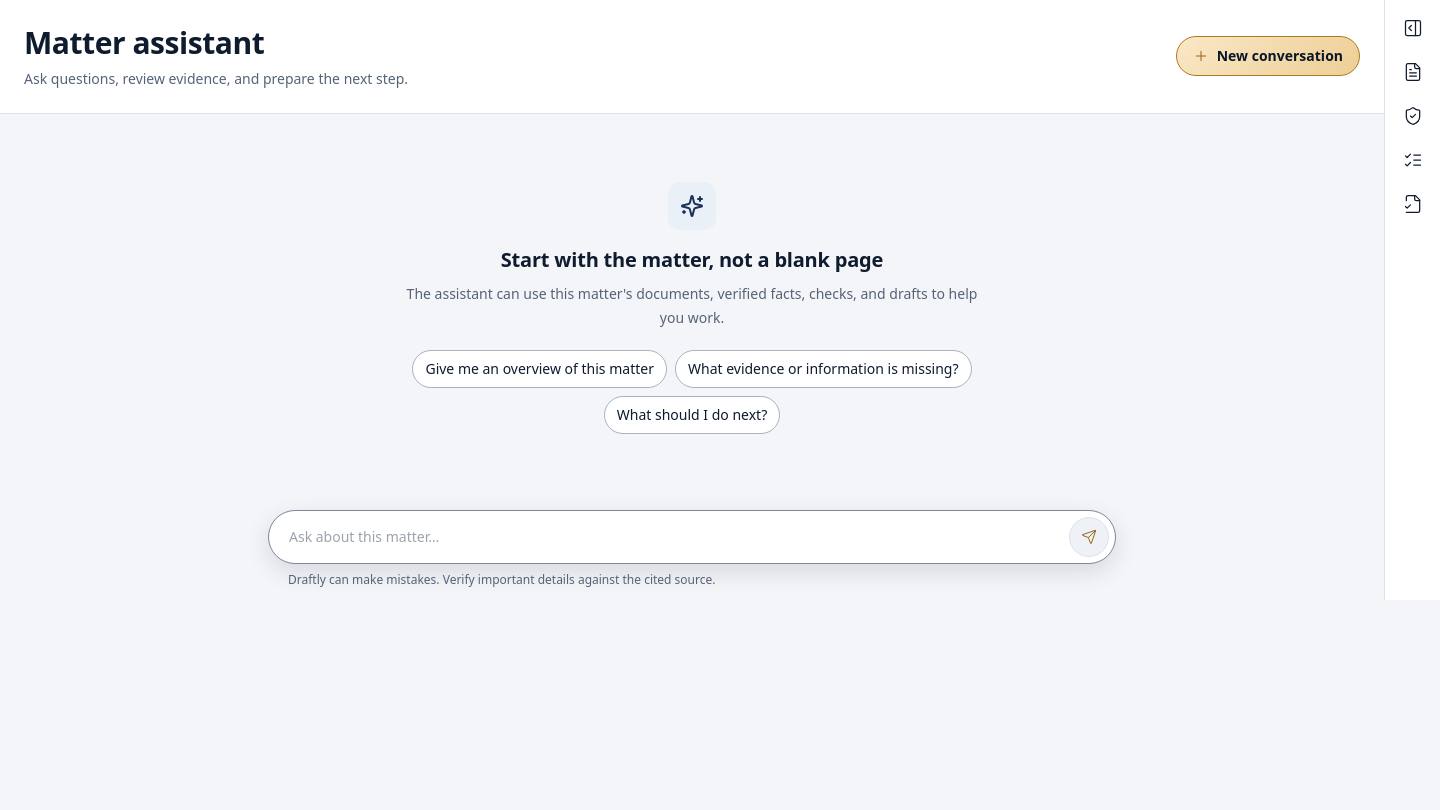
Test: MatterAssistantScreen › retries a failed turn without posting the saved message again
The image size is (1440, 810).
Check: the button "New conversation" is shown, box x1=1176 y1=36 x2=1360 y2=76
Type "hello" into the text box.
click(675, 536); type("hello")  # box x1=289 y1=516 x2=1061 y2=556
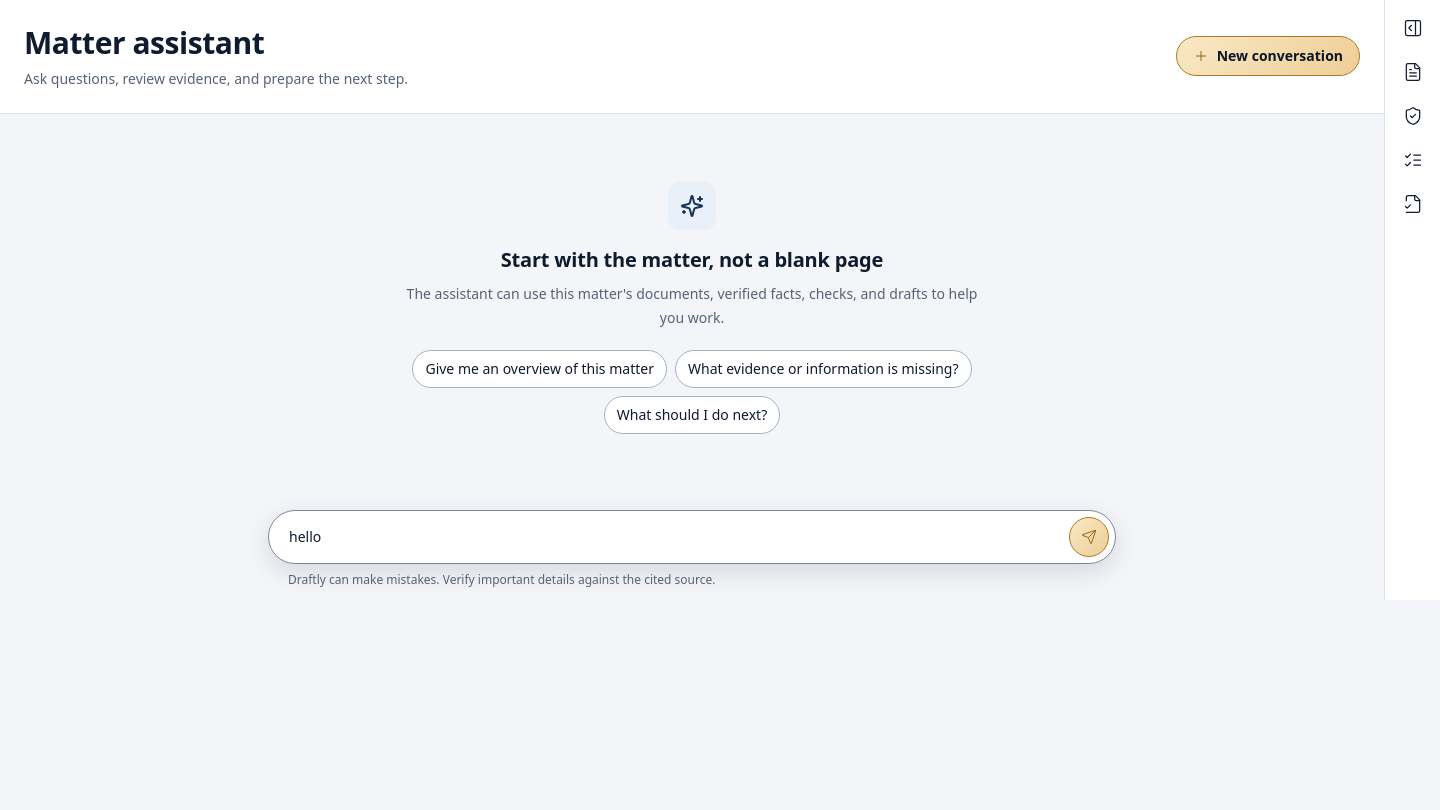
Click the button named "Send".
click(1089, 536)  # box x1=1069 y1=516 x2=1109 y2=556
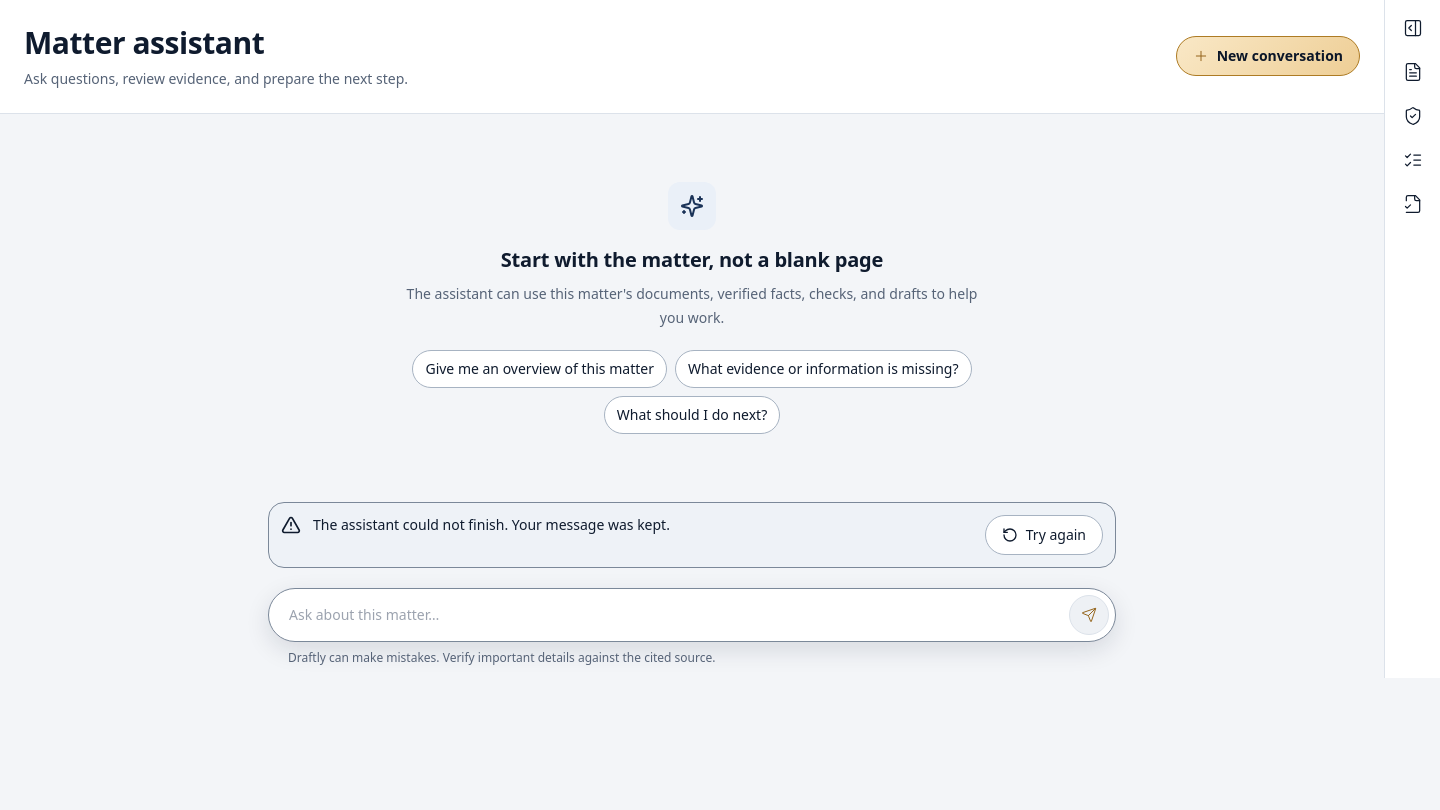
Click the button "Try again".
click(1044, 534)  # box x1=985 y1=514 x2=1103 y2=554
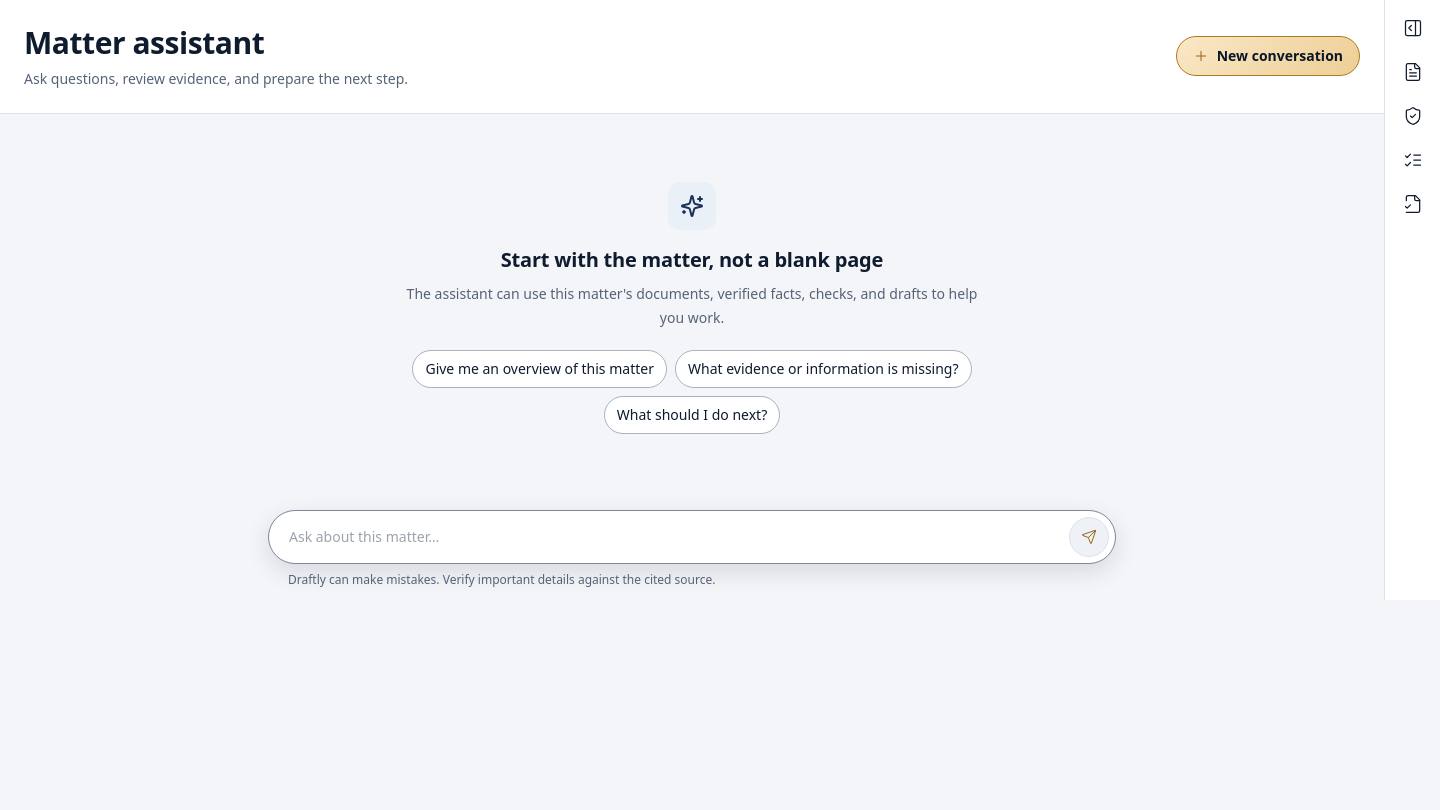
Check: the message "The assistant could not finish. Your message was kept. Try again" is gone
